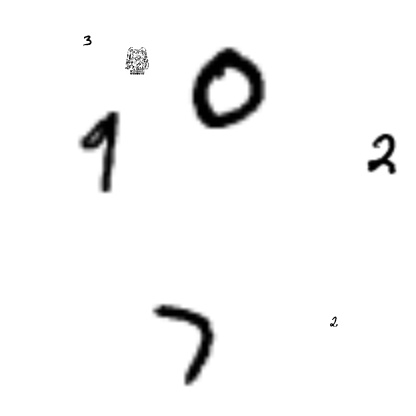0: (169, 32, 281, 144)
2: (354, 126, 410, 182), (327, 315, 341, 329)
3: (81, 33, 95, 47)
7: (133, 277, 245, 389)
9: (47, 88, 159, 200)
Shirt: (123, 47, 151, 75)
